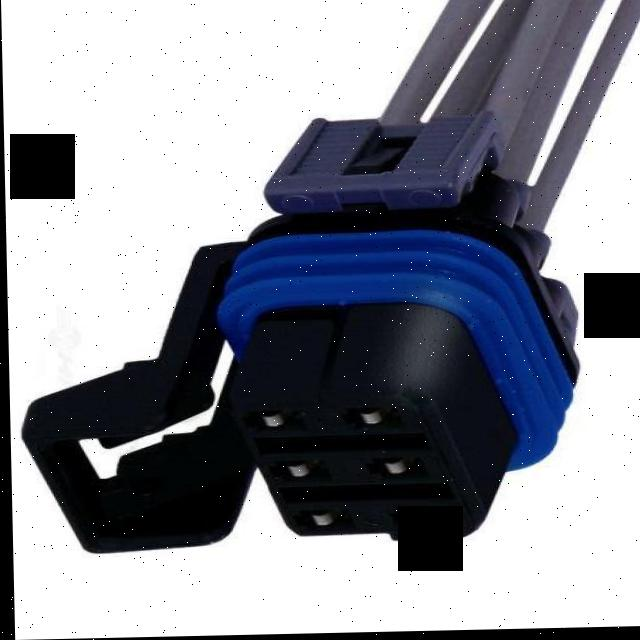connector: (10, 111, 583, 556)
